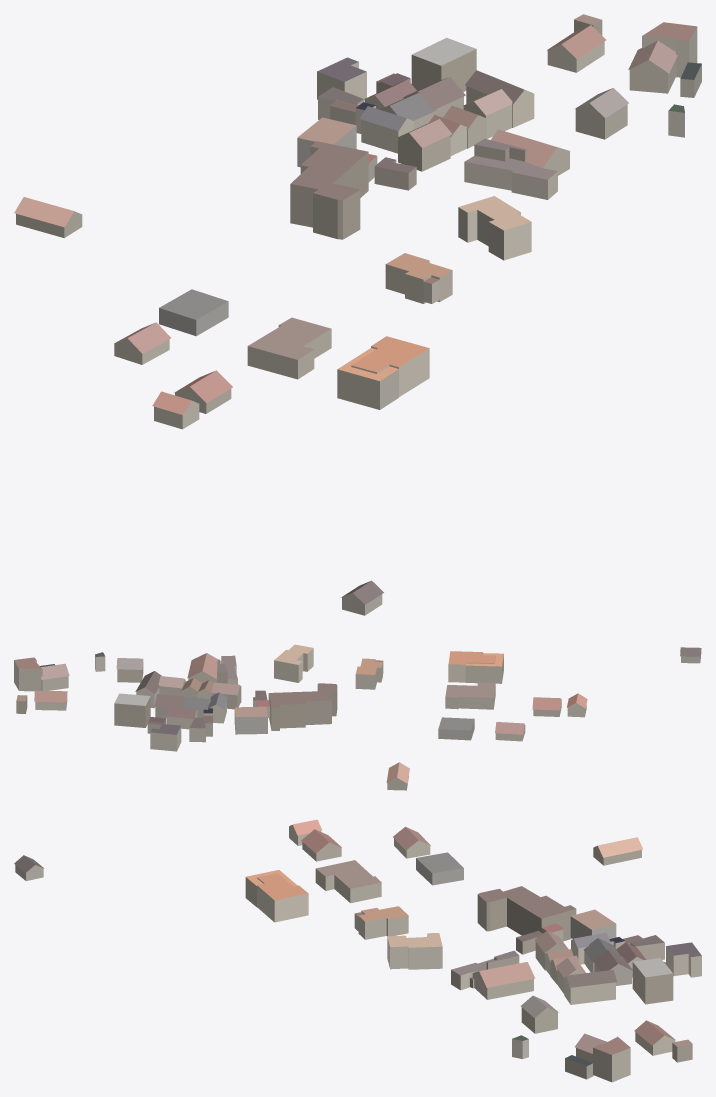
3 views of the same model, one above another, from view 1: azimuth 30°, elevation 25°; view 2: azimuth 150°, elevation 25°; view 3: azimuth 270°, elevation 25° (orthographic). The views are drawn at different scales.
Parts seen in each view (by area): view 1: tuile; view 2: tuile; view 3: tuile.
Part boxes in pixels (bbox=[...]): tuile: bbox=[14, 14, 701, 615]; tuile: bbox=[14, 644, 701, 790]; tuile: bbox=[14, 819, 701, 1082].
Bounding box in the file's own units: 222 × 34.01 × 239.
